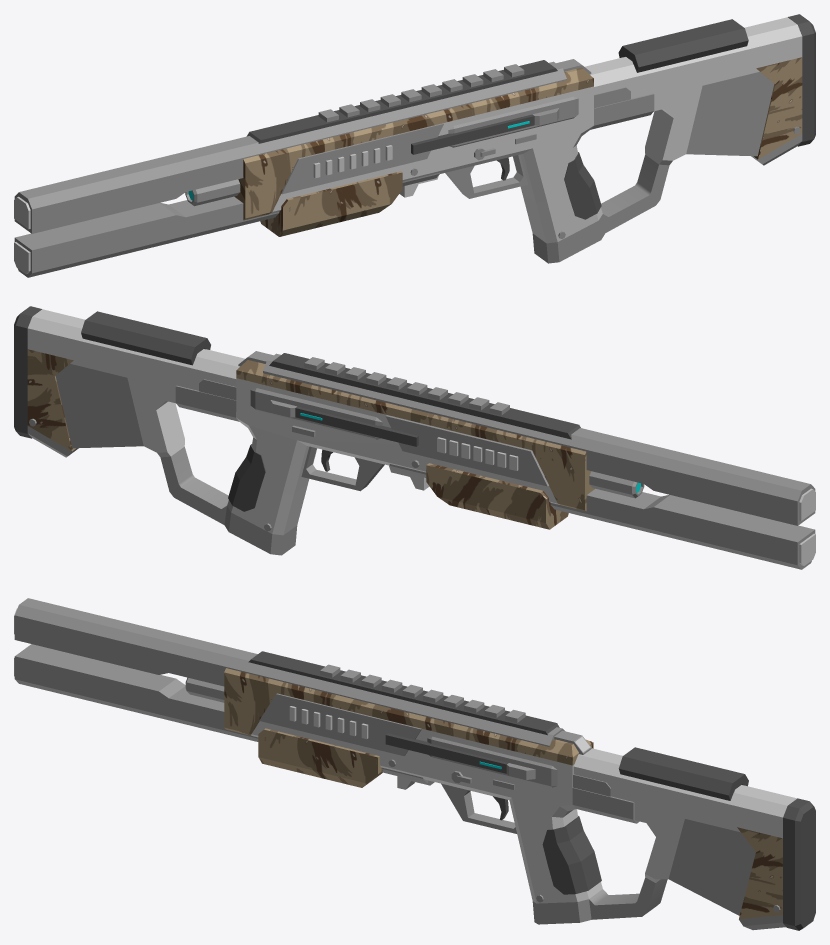
Rendered from SM_ARA2.fbx.
The picture shows the model from 3 angles, top to bottom: view 1: azimuth 30°, elevation 25°; view 2: azimuth 150°, elevation 25°; view 3: azimuth 330°, elevation 25°; orthographic projection.
Parts seen in each view (by area): view 1: SM_ARA2; view 2: SM_ARA2; view 3: SM_ARA2.
Part boxes in pixels (left/top/right/bottom): SM_ARA2: left=14, top=14, right=815, bottom=277; SM_ARA2: left=14, top=306, right=815, bottom=569; SM_ARA2: left=14, top=598, right=815, bottom=930.
Bounding box in the file's own units: 95 × 22.6 × 6.39.
